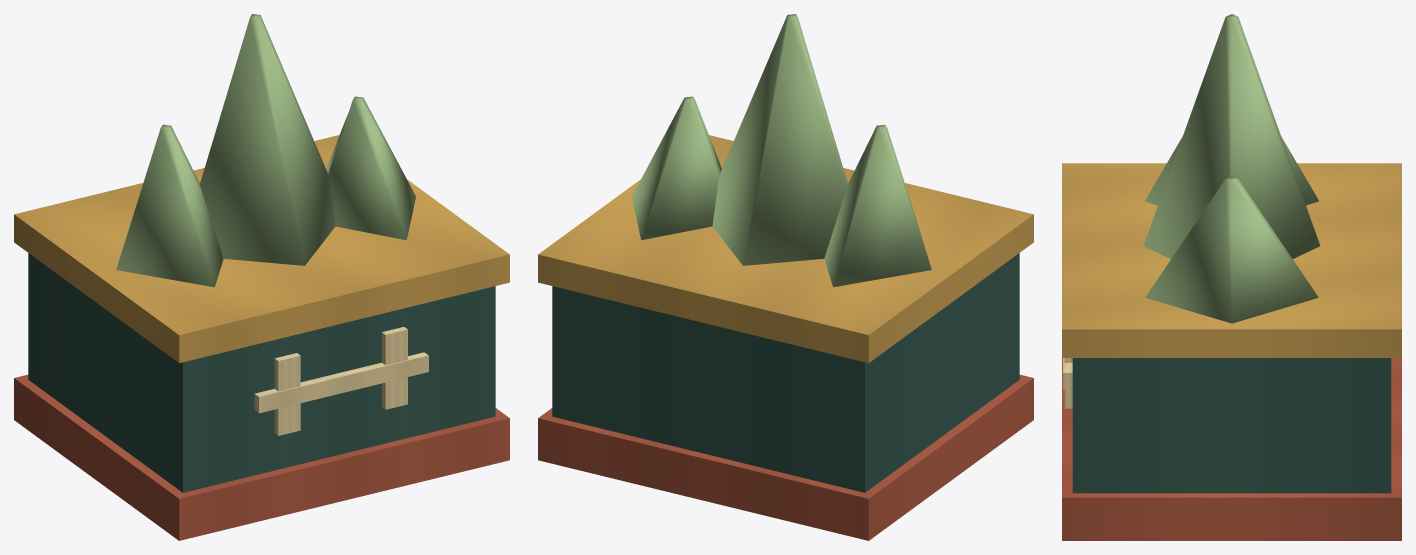
Rendered from seal.glb.
3 renders of one model, left to right at view 1: azimuth 30°, elevation 25°; view 2: azimuth 150°, elevation 25°; view 3: azimuth 270°, elevation 25°, orthographic. The views are drawn at different scales.
Parts seen in each view (by area): view 1: seal; view 2: seal; view 3: seal.
Part boxes in pixels (x1,y1,x2,y2): seal: (14,14,509,540); seal: (538,14,1033,540); seal: (1062,14,1401,540).
Size of the model in its own units: 0.74 by 0.91 by 0.64.
1 material, 1 textured.
